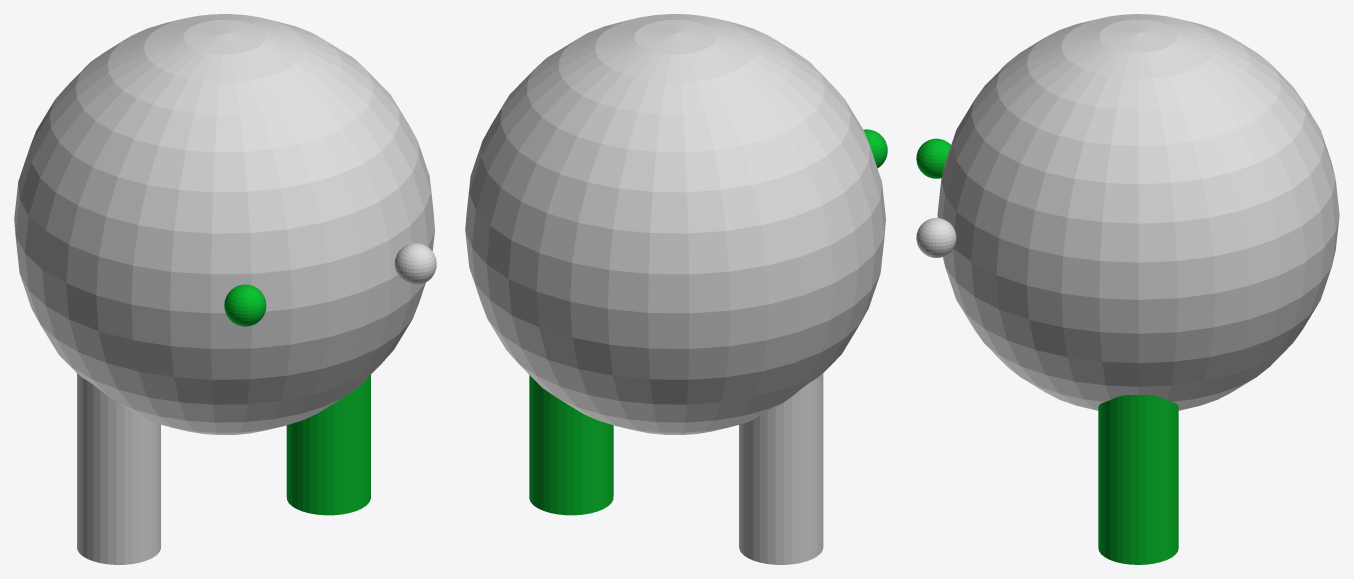
Rendered from char.glb.
The picture shows the model from 3 angles, left to right: view 1: azimuth 30°, elevation 25°; view 2: azimuth 150°, elevation 25°; view 3: azimuth 270°, elevation 25°; orthographic projection. The views are drawn at different scales.
Parts seen in each view (by area): view 1: Sphere, Cylinder, Cylinder.001, Sphere.001, Sphere.002; view 2: Sphere, Cylinder, Cylinder.001, Sphere.001; view 3: Sphere, Cylinder.001, Sphere.002, Sphere.001.
Boxes of the visible parts, bbox=[...] form: Sphere: bbox=[14, 14, 434, 434]; Cylinder: bbox=[77, 373, 160, 564]; Cylinder.001: bbox=[286, 375, 370, 515]; Sphere.001: bbox=[224, 284, 266, 326]; Sphere.002: bbox=[394, 243, 436, 284]; Sphere: bbox=[465, 14, 885, 434]; Cylinder: bbox=[739, 373, 823, 564]; Cylinder.001: bbox=[529, 375, 613, 515]; Sphere.001: bbox=[864, 129, 887, 168]; Sphere: bbox=[937, 14, 1339, 410]; Cylinder.001: bbox=[1098, 395, 1178, 564]; Sphere.002: bbox=[916, 218, 956, 257]; Sphere.001: bbox=[916, 138, 950, 178].
Size of the model in its own units: 1 by 1.28 by 1.05.
